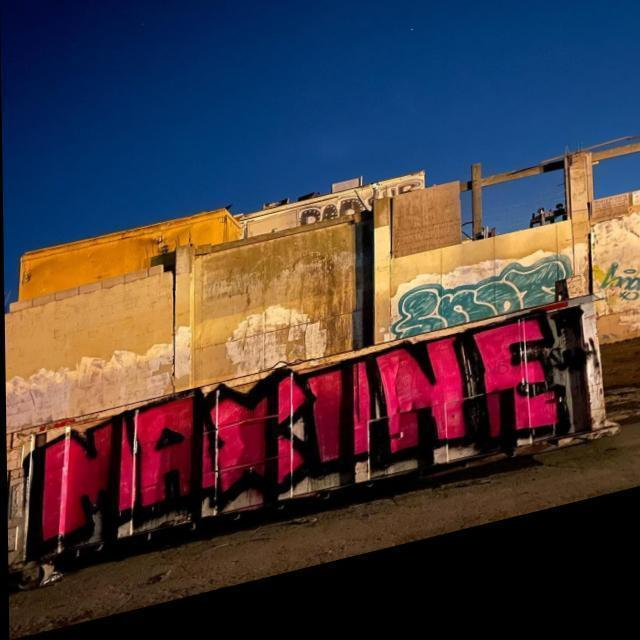nonspitting: (24, 307, 592, 560), (391, 255, 570, 339), (600, 262, 640, 302)
